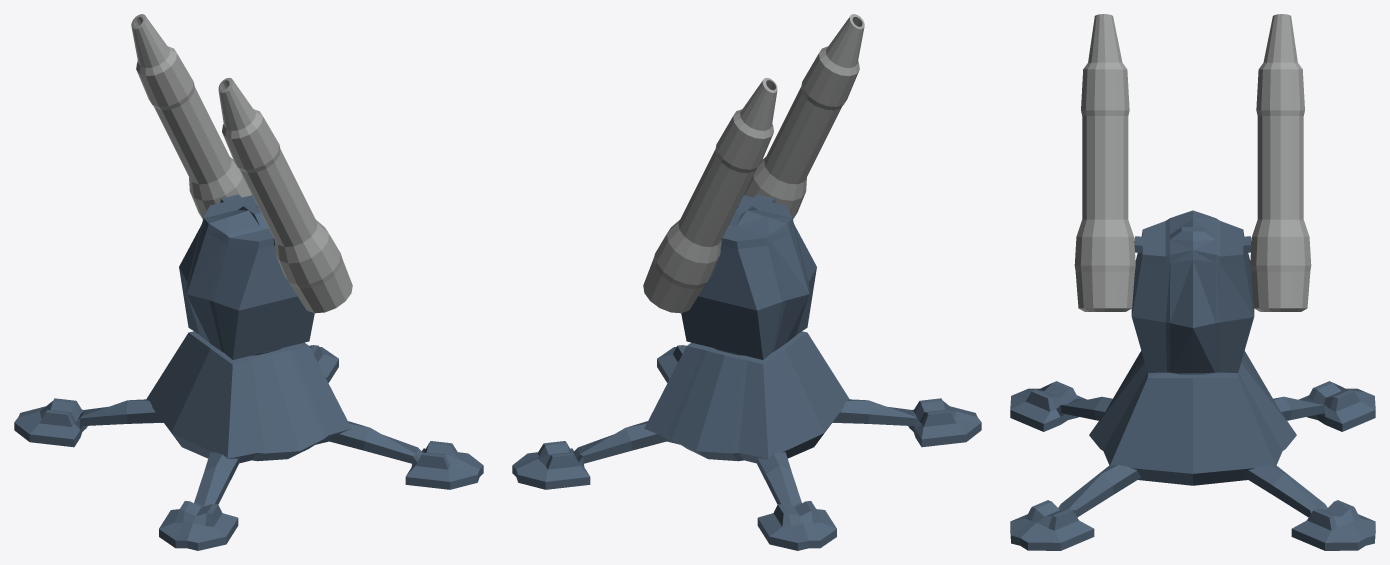
Rendered from 64x128-turret_.glb.
The picture shows the model from 3 angles, left to right: view 1: azimuth 30°, elevation 25°; view 2: azimuth 150°, elevation 25°; view 3: azimuth 270°, elevation 25°; orthographic projection. The views are drawn at different scales.
Visible parts, largest first — view 1: weapon, platform.lower, platform.upper, pad.f.r, pad.f.l, pad.r.l, pad.r.r; view 2: weapon, platform.lower, platform.upper, pad.r.r, pad.r.l, pad.f.l, pad.f.r; view 3: weapon, platform.lower, platform.upper, pad.r.r, pad.f.r, pad.f.l, pad.r.l.
Boxes of the visible parts, left/top/right/bottom form: weapon: left=131, top=14, right=352, bottom=313; platform.lower: left=146, top=331, right=351, bottom=463; platform.upper: left=179, top=194, right=314, bottom=359; pad.f.r: left=327, top=421, right=483, bottom=489; pad.f.l: left=159, top=452, right=239, bottom=550; pad.r.l: left=14, top=398, right=163, bottom=447; pad.r.r: left=309, top=345, right=338, bottom=382; weapon: left=643, top=14, right=864, bottom=313; platform.lower: left=644, top=331, right=849, bottom=463; platform.upper: left=681, top=194, right=816, bottom=359; pad.r.r: left=512, top=421, right=669, bottom=489; pad.r.l: left=756, top=452, right=836, bottom=550; pad.f.l: left=832, top=398, right=981, bottom=447; pad.f.r: left=657, top=345, right=686, bottom=382; weapon: left=1074, top=14, right=1311, bottom=311; platform.lower: left=1089, top=351, right=1296, bottom=485; platform.upper: left=1131, top=210, right=1254, bottom=374; pad.r.r: left=1244, top=465, right=1375, bottom=550; pad.f.r: left=1010, top=465, right=1141, bottom=550; pad.f.l: left=1010, top=381, right=1112, bottom=431; pad.r.l: left=1273, top=381, right=1375, bottom=431.
Size of what is drawn, in the model's own units: 2.06 by 2.67 by 2.06.
